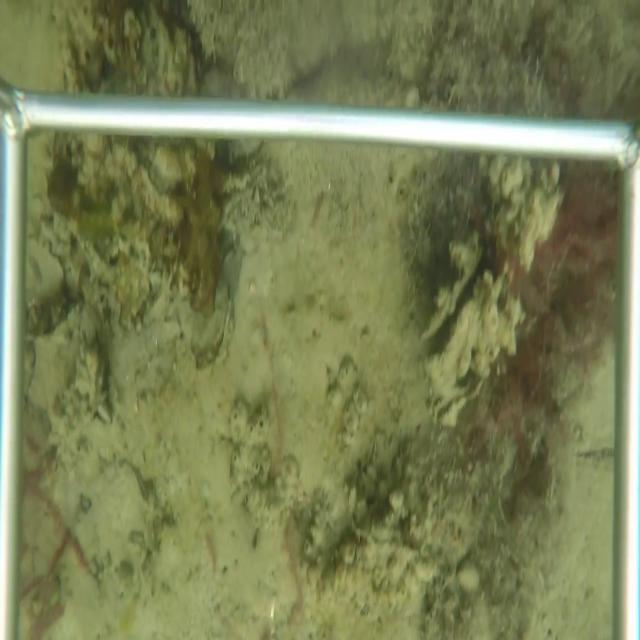Oyster-Indeterminate: (86, 458, 162, 577)
Oyster-Open: (417, 236, 497, 375), (184, 272, 239, 380), (427, 376, 485, 432)
